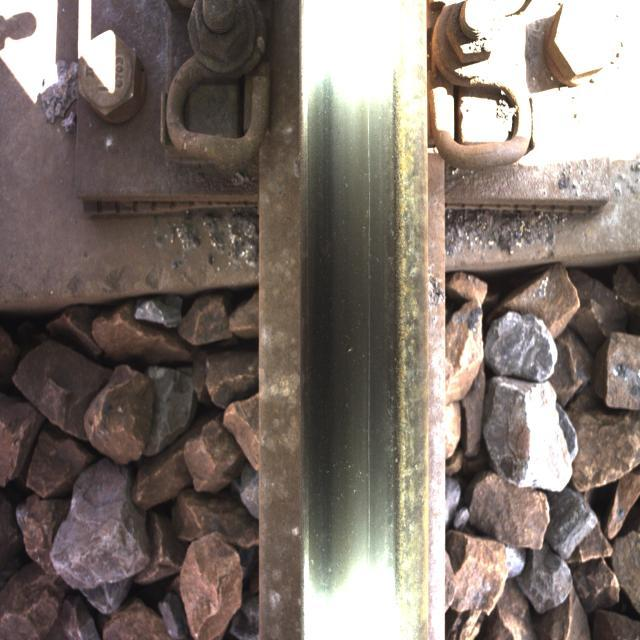normal: (322, 42, 412, 638)
